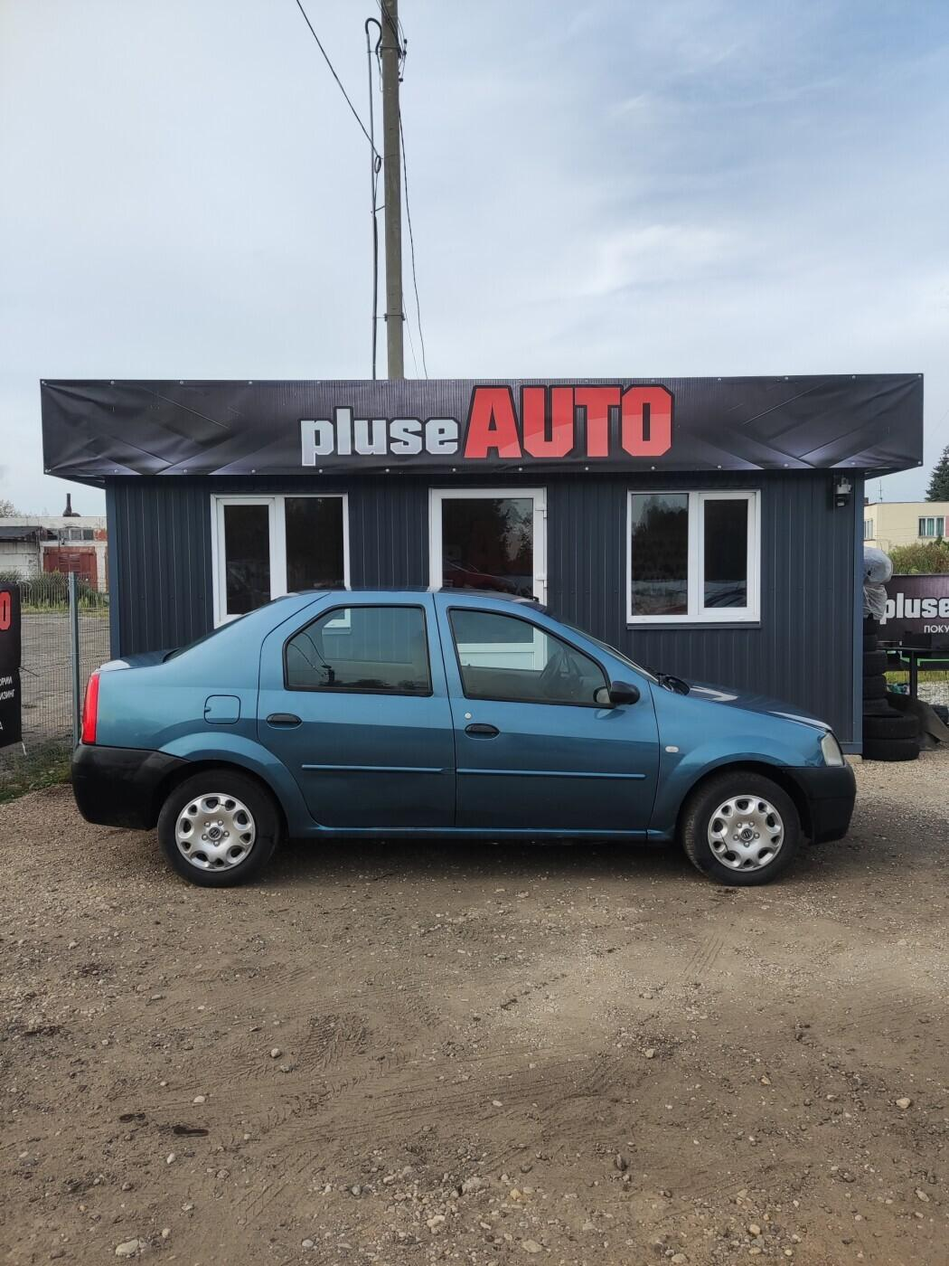Logan_2004-2009: (69, 581, 862, 904)
